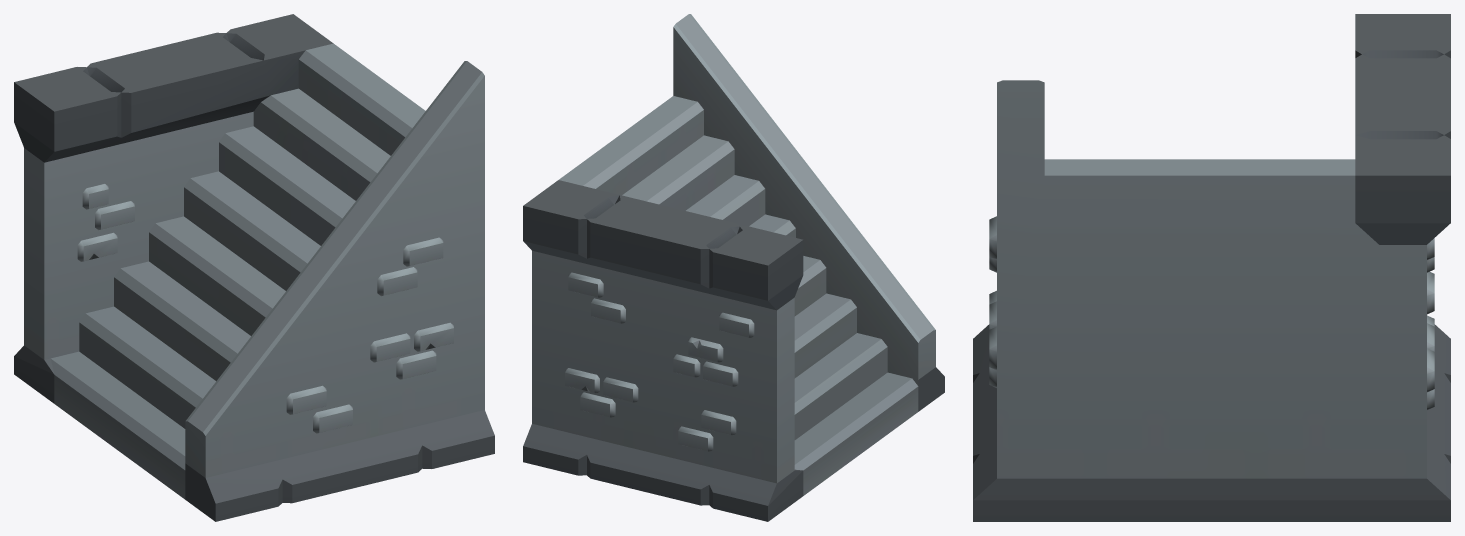
The model's file is stairs-wall-right-gltf.glb.
3 renders of one model, left to right at view 1: azimuth 30°, elevation 25°; view 2: azimuth 150°, elevation 25°; view 3: azimuth 270°, elevation 25°, orthographic. The views are drawn at different scales.
Visible parts, largest first — view 1: stairs_wall_right; view 2: stairs_wall_right; view 3: stairs_wall_right.
Boxes of the visible parts, x1,y1,x2,y2 form: stairs_wall_right: (14, 14, 494, 521); stairs_wall_right: (523, 14, 944, 521); stairs_wall_right: (973, 14, 1450, 521).
Size of the model in its own units: 4 by 5.1 by 5.
1 material, 1 textured.
